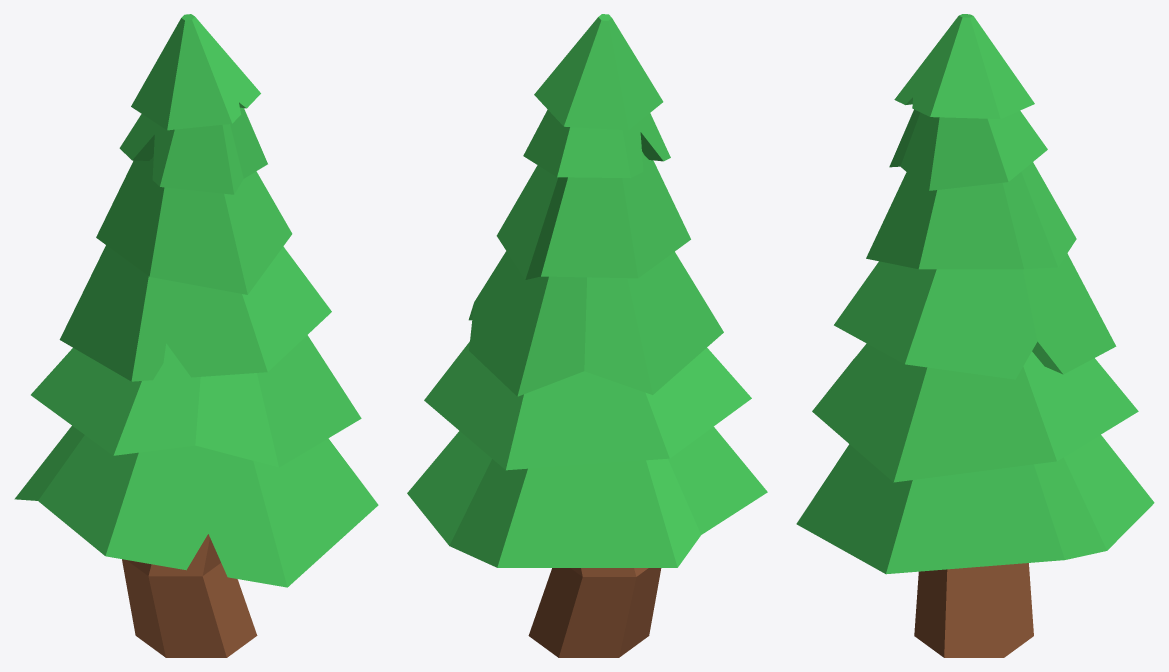
Rendered from pinheiro1.fbx.
3 renders of one model, left to right at view 1: azimuth 30°, elevation 25°; view 2: azimuth 150°, elevation 25°; view 3: azimuth 270°, elevation 25°, orthographic.
Visible parts, largest first — view 1: Cylinder.001, Cylinder.002, Cylinder.003, Cylinder.004, Cylinder, Cylinder.006, Cylinder.005; view 2: Cylinder.001, Cylinder.003, Cylinder.002, Cylinder.004, Cylinder, Cylinder.006, Cylinder.005; view 3: Cylinder.001, Cylinder.002, Cylinder.003, Cylinder.004, Cylinder, Cylinder.005, Cylinder.006.
Boxes of the visible parts, left/top/right/bottom form: Cylinder.001: left=14, top=426, right=378, bottom=587; Cylinder.002: left=31, top=335, right=361, bottom=467; Cylinder.003: left=59, top=245, right=331, bottom=381; Cylinder.004: left=96, top=156, right=292, bottom=294; Cylinder: left=122, top=534, right=257, bottom=657; Cylinder.006: left=131, top=14, right=260, bottom=130; Cylinder.005: left=119, top=107, right=267, bottom=194; Cylinder.001: left=407, top=426, right=767, bottom=567; Cylinder.003: left=468, top=251, right=723, bottom=396; Cylinder.002: left=424, top=341, right=751, bottom=470; Cylinder.004: left=496, top=151, right=690, bottom=279; Cylinder: left=528, top=568, right=661, bottom=657; Cylinder.006: left=534, top=14, right=663, bottom=130; Cylinder.005: left=523, top=109, right=670, bottom=178; Cylinder.001: left=796, top=435, right=1154, bottom=574; Cylinder.002: left=812, top=343, right=1138, bottom=482; Cylinder.003: left=834, top=253, right=1116, bottom=379; Cylinder.004: left=866, top=162, right=1076, bottom=269; Cylinder: left=914, top=563, right=1033, bottom=657; Cylinder.005: left=889, top=109, right=1047, bottom=190; Cylinder.006: left=894, top=14, right=1034, bottom=118.
Size of the model in its own units: 418 by 914 by 483.
